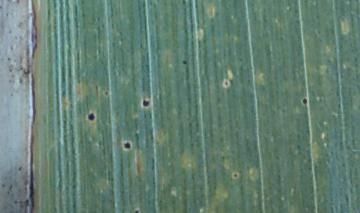tarspot: (87, 112, 95, 121), (123, 140, 132, 148), (142, 99, 150, 107), (223, 79, 230, 87), (301, 97, 308, 105), (182, 60, 189, 66), (104, 91, 109, 97), (134, 208, 139, 213), (233, 173, 238, 178)
